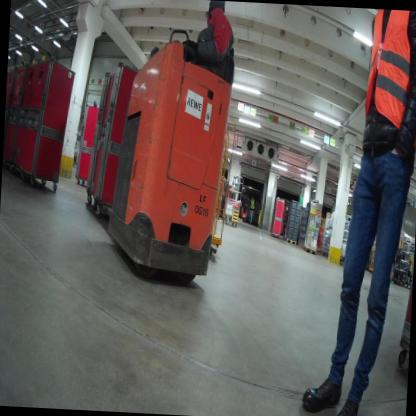pallet: (302, 244, 318, 256), (284, 235, 296, 245), (318, 247, 324, 257), (296, 241, 301, 247), (300, 242, 303, 249)
pallet_truck: (78, 22, 239, 296), (237, 191, 248, 222)
